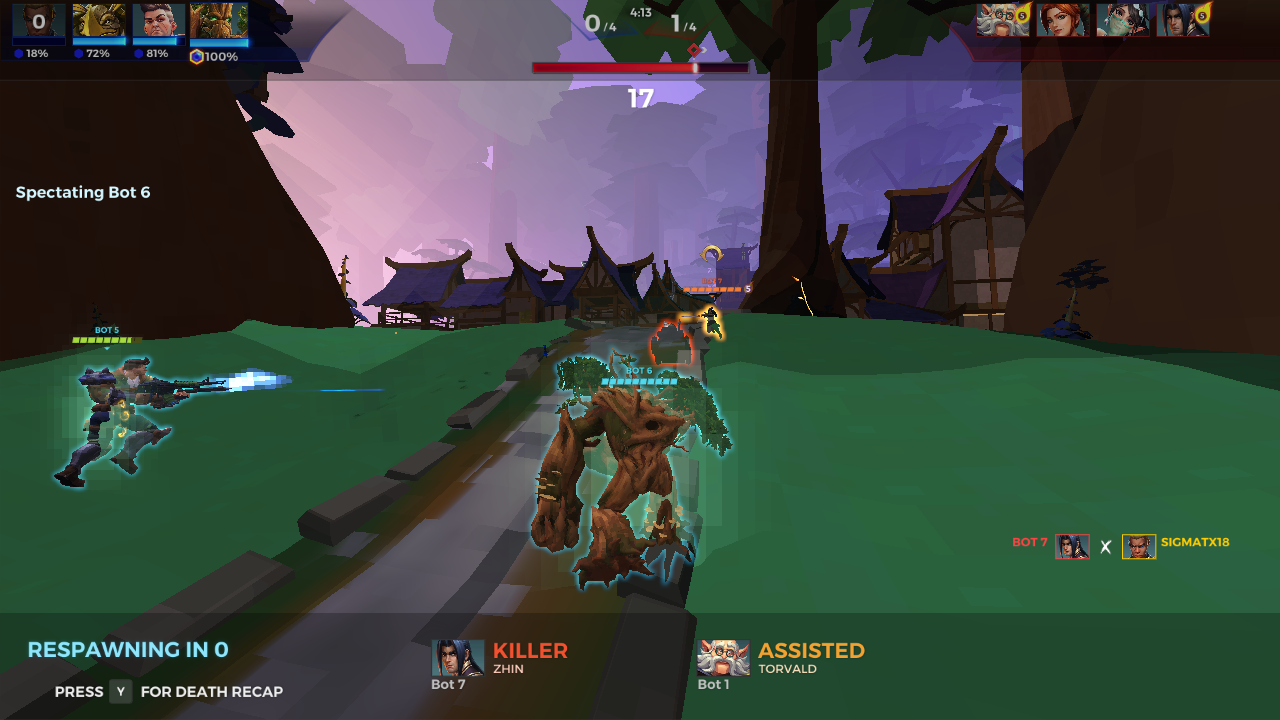model: (697, 303, 726, 344)
